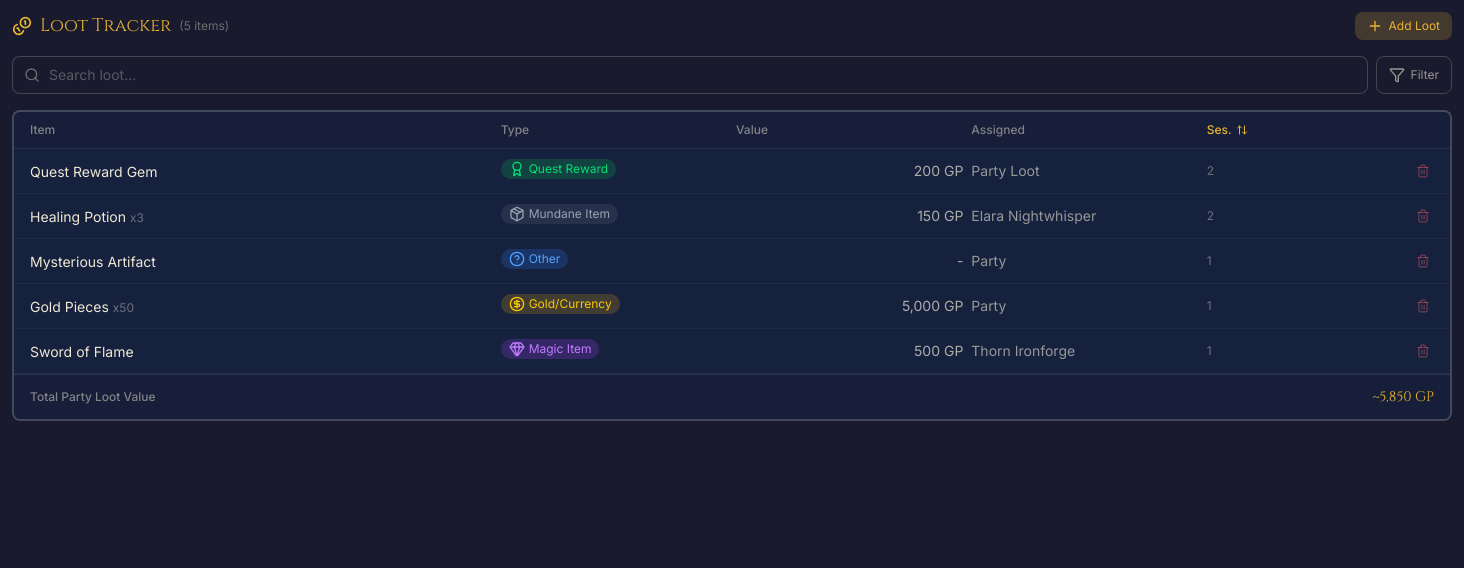
Test: LootTracker › should filter by "Unassigned" showing party loot
This screenshot has width=1464, height=568.
Step 1. Click the button with aria-label "Toggle filters" → (1414, 75), box [1376,56,1452,94]
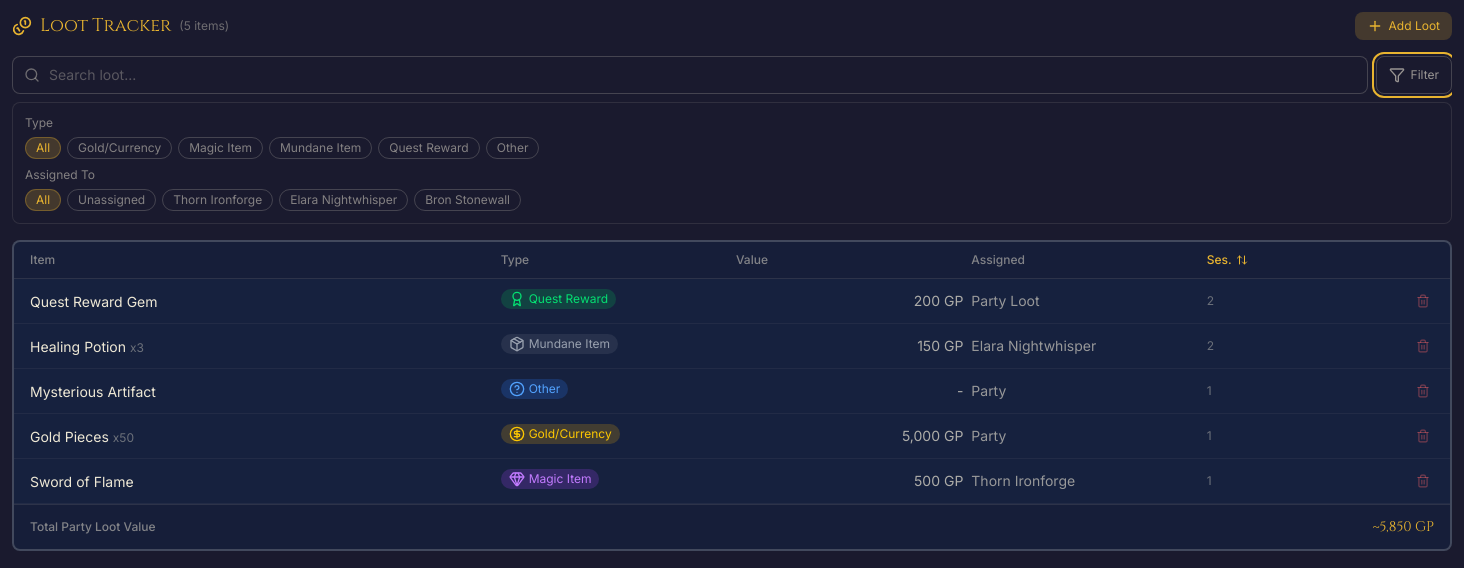
Step 2. Click the button "Unassigned" → (112, 200), box [67,189,156,211]
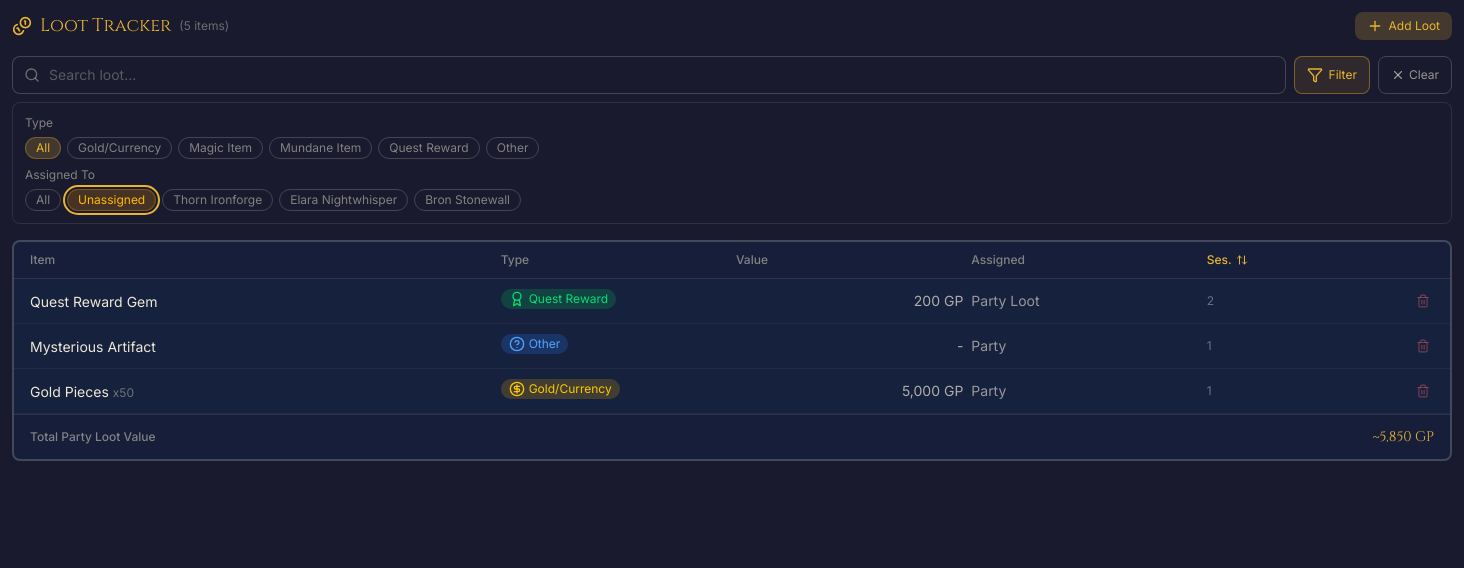
Check: the text "Gold Pieces" is shown, box [30,383,109,400]
Check: the text "Sword of Flame" is gone
